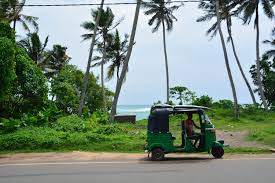tuk tuk: (144, 104, 227, 162)
